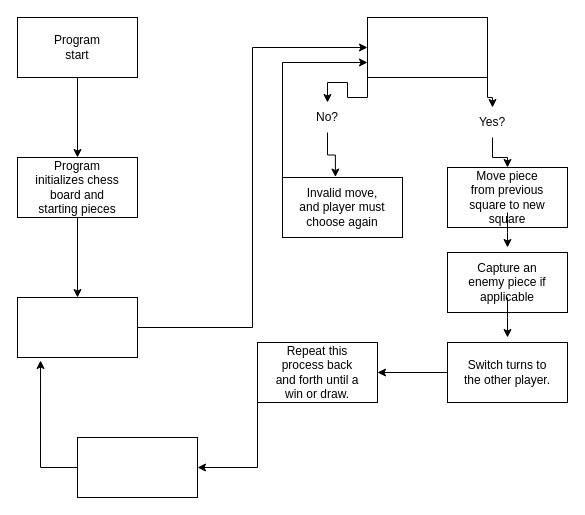
The diagram is 585 pixels wide and 515 high, and some of its shapes have lost their labels. The box of each missing label's shape, as (x1, y1, x2, y2) in pixels:
Choose a piece and move: (16, 296, 138, 358)
Is the move valid and fits all misc rules and conditions?: (366, 16, 488, 78)
Saves and loads game if players don't want to finish: (76, 436, 198, 498)
